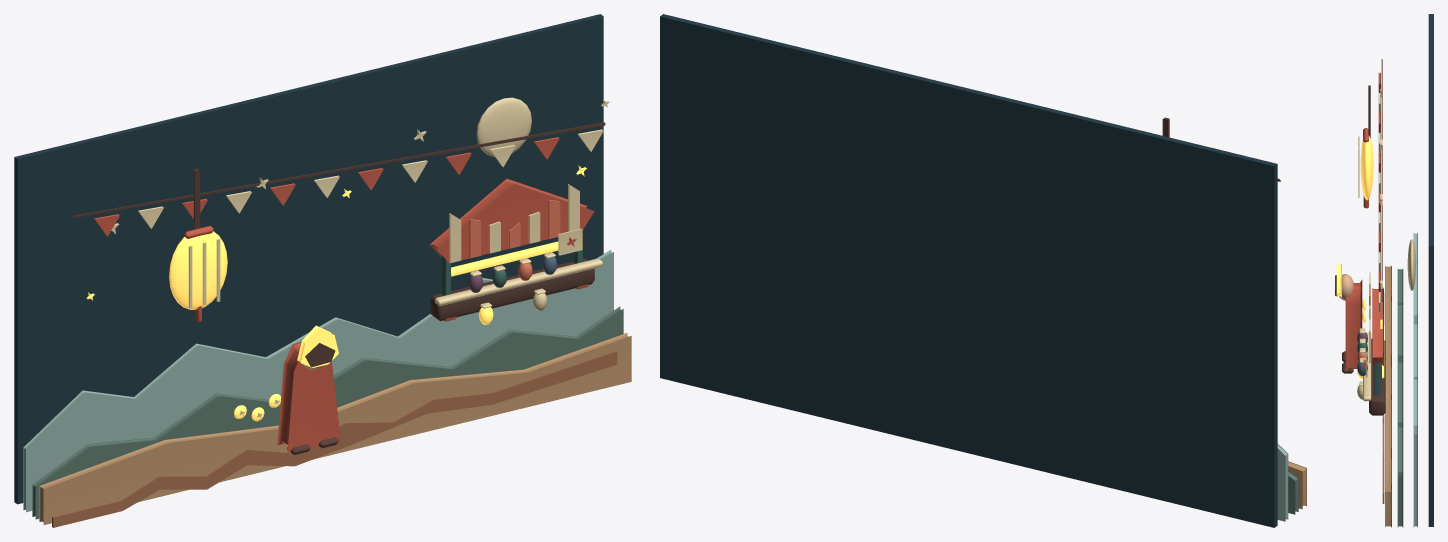
Rendered from night_market_diorama.glb.
3 views of the same model, side by side, from view 1: azimuth 30°, elevation 25°; view 2: azimuth 150°, elevation 25°; view 3: azimuth 270°, elevation 25° (orthographic). The views are drawn at different scales.
Parts seen in each view (by area): view 1: Night sky · deep sheet, Distant mist · cut sheet, Market ground · cut paper, Far hill · green paper, Winding market path, Market stall · canopy backing, Traveler · cloak, Moon lantern · glowing paper, Stall counter, Full moon · paper disk, Pennant string, Counter paper top (+2 smaller); view 2: Night sky · deep sheet, Distant mist · cut sheet; view 3: Night sky · deep sheet, Market ground · cut paper, Far hill · green paper, Distant mist · cut sheet, Traveler · cloak, Market stall · canopy backing, Moon lantern · glowing paper, Stall counter, Pennant string, Counter paper top, Full moon · paper disk, Winding market path (+4 smaller).
Boxes of the visible parts, x1,y1,x2,y2 form: Night sky · deep sheet: (14,14,603,504); Distant mist · cut sheet: (23,250,613,512); Market ground · cut paper: (39,333,631,524); Far hill · green paper: (32,306,623,519); Winding market path: (52,350,617,527); Market stall · canopy backing: (430,178,594,263); Traveler · cloak: (277,341,340,452); Moon lantern · glowing paper: (169,231,227,309); Stall counter: (430,258,594,321); Full moon · paper disk: (476,97,531,156); Pennant string: (71,122,605,218); Counter paper top: (435,258,602,305); Night sky · deep sheet: (660,14,1277,527); Distant mist · cut sheet: (1277,444,1288,521); Night sky · deep sheet: (1428,14,1433,526); Market ground · cut paper: (1385,265,1391,527); Far hill · green paper: (1397,269,1403,527); Distant mist · cut sheet: (1413,233,1417,527); Traveler · cloak: (1345,279,1362,372); Market stall · canopy backing: (1372,288,1383,366); Moon lantern · glowing paper: (1360,136,1373,200); Stall counter: (1369,338,1385,415); Pennant string: (1381,59,1382,301); Counter paper top: (1363,332,1371,401); Full moon · paper disk: (1407,239,1415,290); Winding market path: (1382,293,1384,503).
Size of the model in its own units: 16.05 by 9.12 by 2.88.
